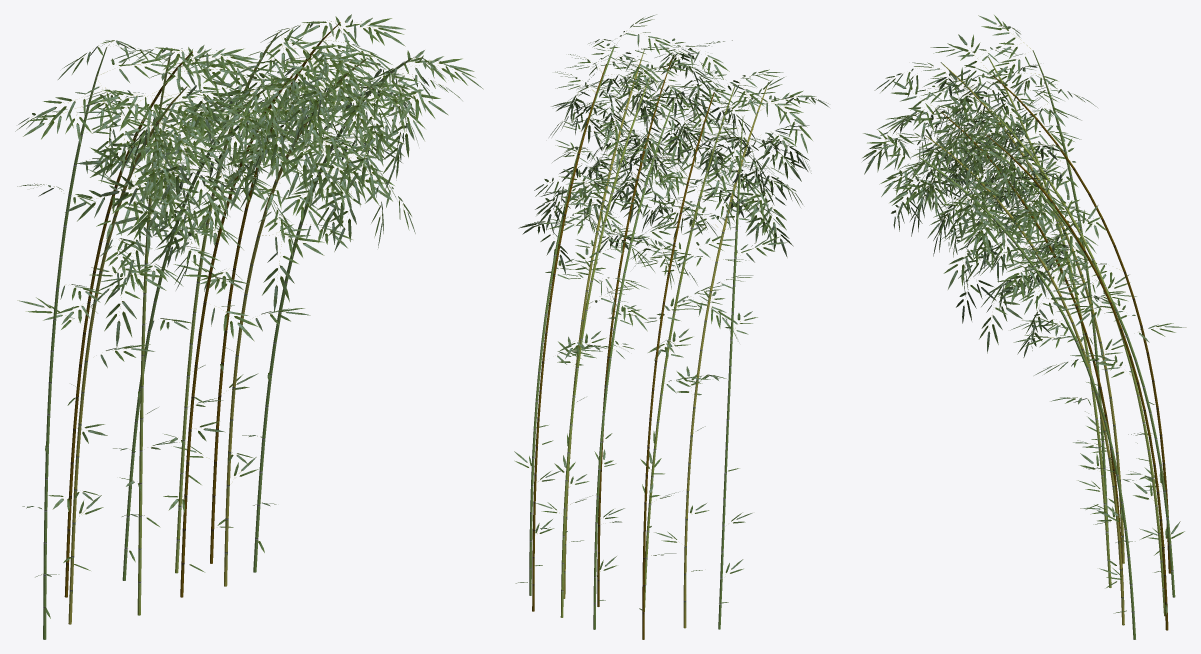
The model's file is bamboo.obj.
3 renders of one model, left to right at view 1: azimuth 30°, elevation 25°; view 2: azimuth 150°, elevation 25°; view 3: azimuth 270°, elevation 25°, orthographic. The views are drawn at different scales.
Parts seen in each view (by area): view 1: Leaves, Trunk; view 2: Leaves, Trunk; view 3: Leaves, Trunk.
Boxes of the visible parts, x1=… form: Leaves: x1=15, y1=14, x2=483, y2=618; Trunk: x1=43, y1=22, x2=411, y2=639; Leaves: x1=514, y1=14, x2=829, y2=610; Trunk: x1=529, y1=45, x2=768, y2=639; Leaves: x1=862, y1=15, x2=1186, y2=614; Trunk: x1=919, y1=50, x2=1175, y2=639.
Bounding box in the file's own units: 300 × 500 × 278.
